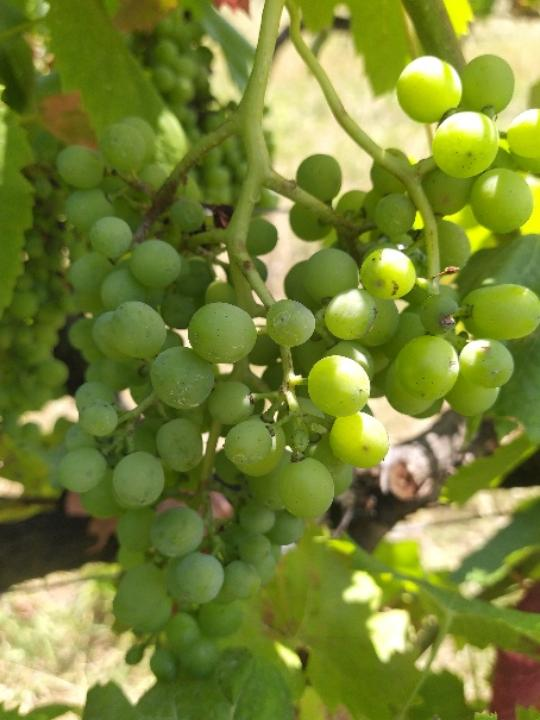grape: (50, 48, 540, 686)
